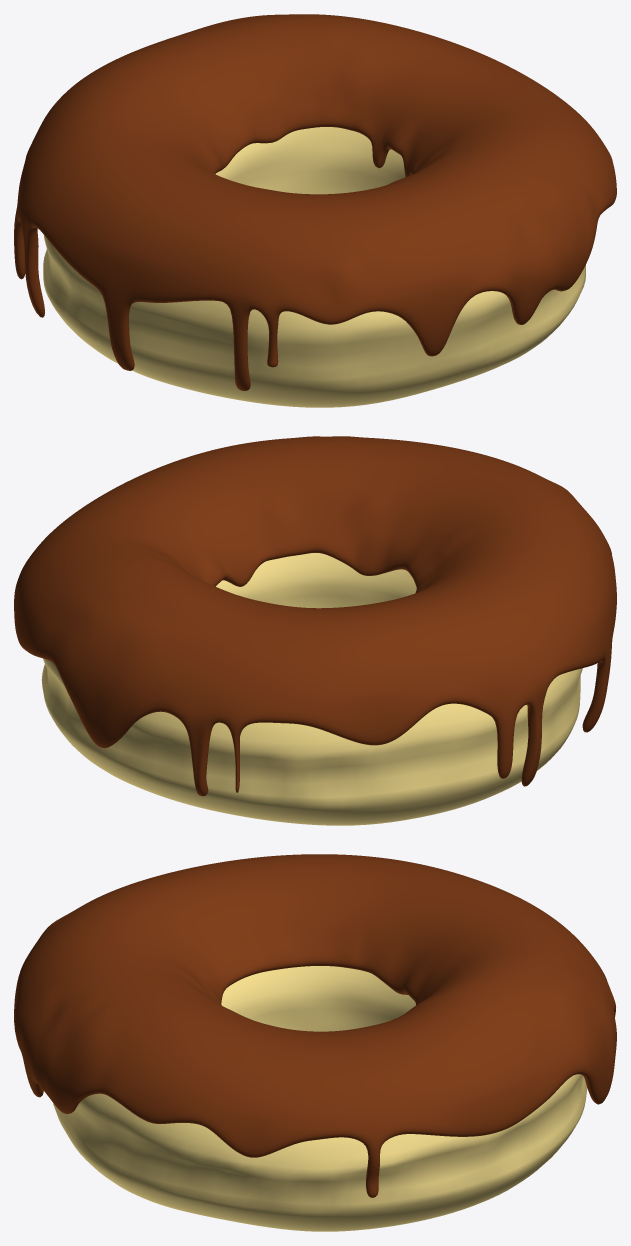
File: donut2.fbx
The picture shows the model from 3 angles, top to bottom: view 1: azimuth 30°, elevation 25°; view 2: azimuth 150°, elevation 25°; view 3: azimuth 270°, elevation 25°; orthographic projection. The views are drawn at different scales.
Visible parts, largest first — view 1: Donut_5_Icing; view 2: Donut_5_Icing; view 3: Donut_5_Icing.
Part boxes in pixels (bbox=[...]): Donut_5_Icing: bbox=[14, 14, 616, 407]; Donut_5_Icing: bbox=[14, 436, 616, 825]; Donut_5_Icing: bbox=[14, 854, 616, 1231].
Bounding box in the file's own units: 11.54 × 4.43 × 11.84.
